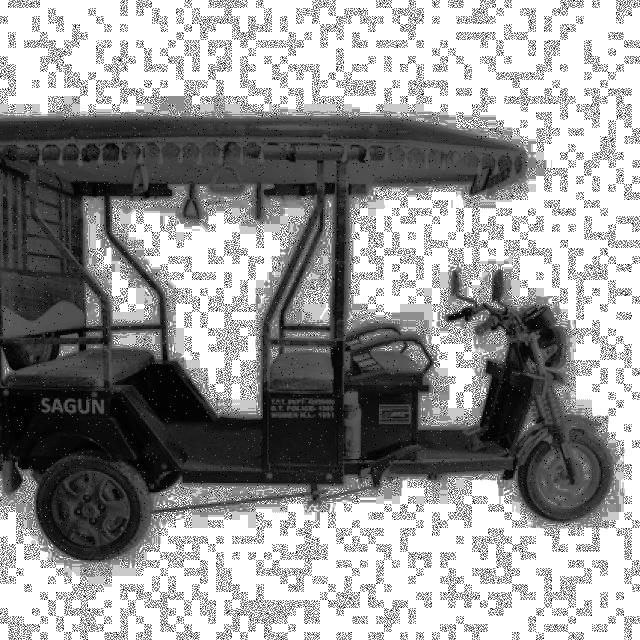Toto: (0, 110, 611, 555)
